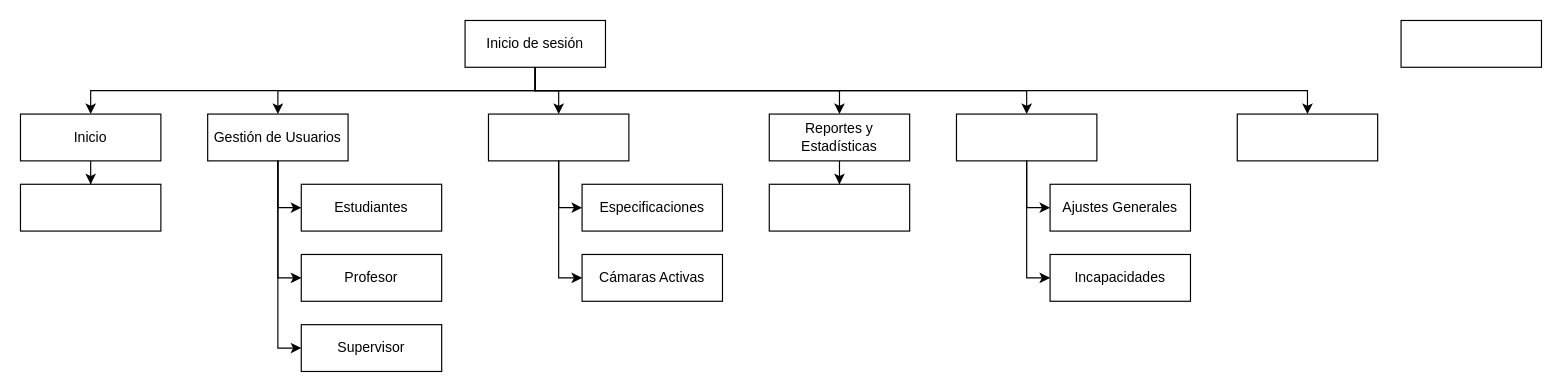
Some shapes in this 1562 by 392 pixel diagram are drawn without their labels. The shapes that lost their labels are listed below. From the top down, each one's box as (x1, y1, x2, y2) in pixels, then its label:
(1400, 19, 1541, 67): Contraseña olvidada
(487, 113, 629, 161): Gestión de Dispositivos
(955, 113, 1097, 161): Configuración del Sistema
(1236, 113, 1378, 161): Notificaciones
(19, 183, 161, 231): Dashboard
(768, 183, 910, 231): Asistencia por Curso
